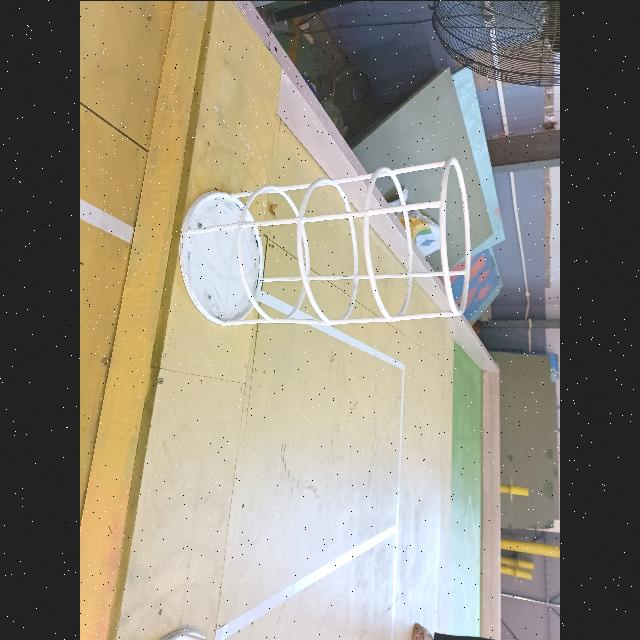S: (179, 154, 472, 328)
